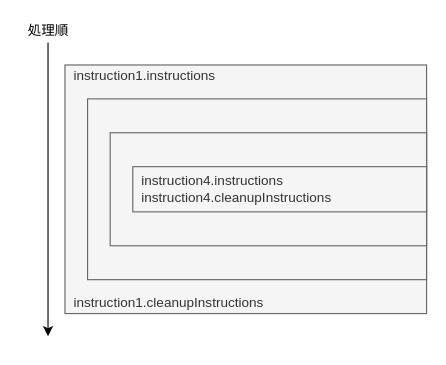
This 446x365 diagram has some shape labels left out. Here are the shapes that lost their labels. From the top down, the box of each, then its label:
(86, 98, 427, 280): instruction2.instructions instruction2.cleanupInstructions
(109, 132, 427, 246): instruction3.instructions instruction3.cleanupInstructions
